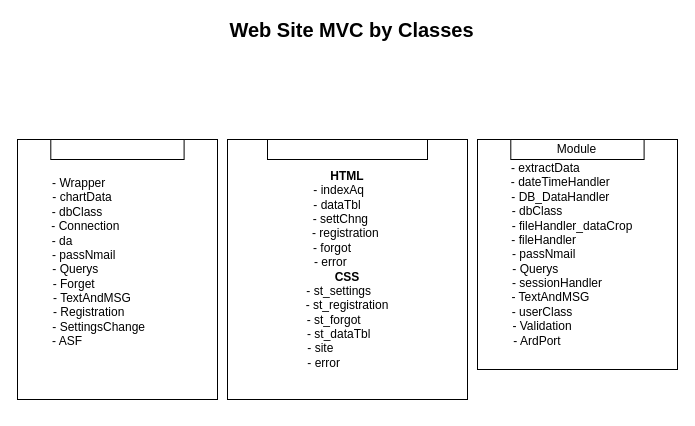
This 695x426 diagram has some shape labels left out. The shapes that lost their labels are listed below. From the top down, each one's centre as x and y in pixels, then its label:
the point at 117,149: Controller
the point at 347,149: View
